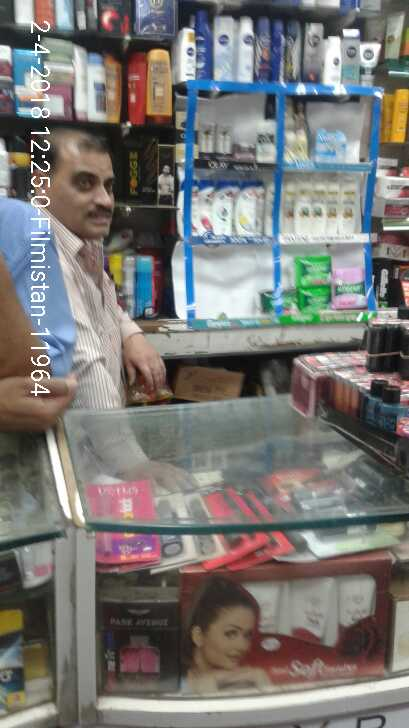venus: (315, 129, 348, 162)
